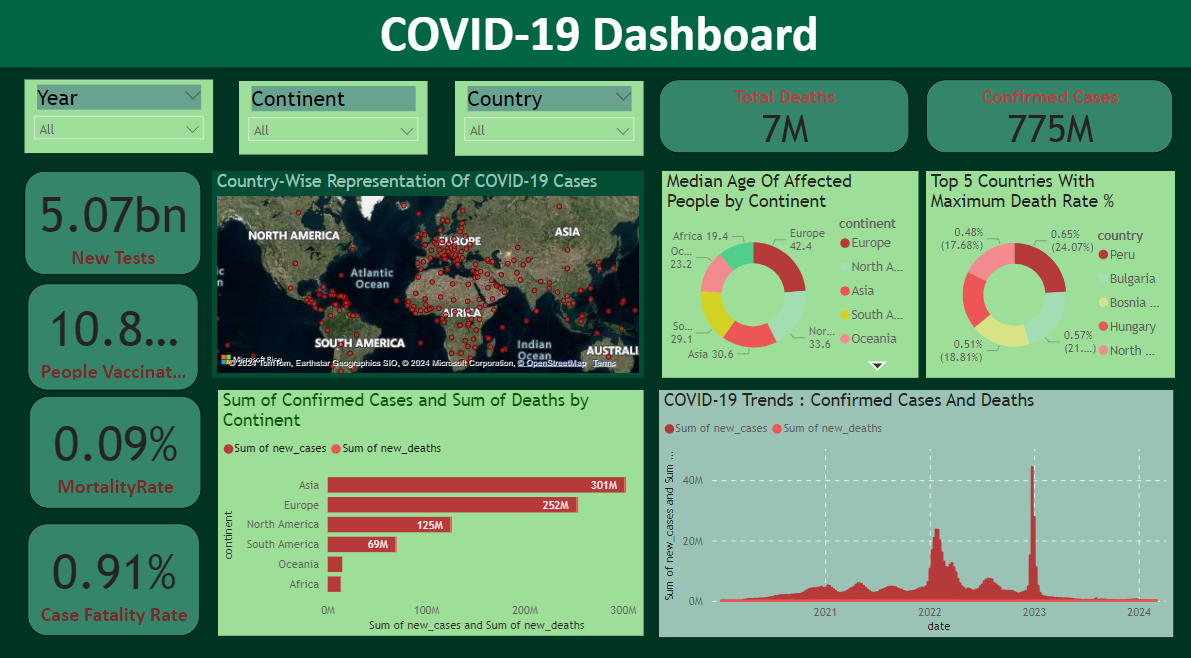

The dashboard page shown, as its layout file describes it:
{"tool":"powerbi","page":{"name":"Page 1","canvas":[1280,720],"ordinal":0},"visuals":[{"type":"textbox","box":[0,0,1279.5,74.7],"z":0},{"type":"card","title":"Confirmed Cases","fields":{"Values":["Sum(Sheet1.new_cases)"]},"box":[985.4,87.4,262.3,77.9],"z":1000},{"type":"map","fields":{"Category":["Sheet1.country"]},"box":[228.9,184.4,457.7,219.3],"z":2000},{"type":"card","fields":{"Values":["Sum(Sheet1.new_tests)"]},"box":[30.2,184.4,187.5,109.7],"z":3000},{"type":"barChart","title":"Sum of Confirmed Cases and Sum of Deaths by Continent","fields":{"Category":["Sheet1.continent"],"Y":["Sum(Sheet1.new_cases)","Sum(Sheet1.new_deaths)"]},"box":[235.2,416.4,451.4,260.7],"z":4000},{"type":"donutChart","title":"Top 5 Countries With Maximum Death Rate %","fields":{"Category":["Sheet1.country"],"Y":["Sheet1.MortalityRate"]},"box":[985.4,184.4,263.8,219.3],"z":6000},{"type":"lineChart","title":"COVID-19 Trends : Confirmed Cases And Deaths","fields":{"Category":["Sheet1.date"],"Y":["Sum(Sheet1.new_cases)","Sum(Sheet1.new_deaths)"]},"box":[702.5,416.4,545.2,262.3],"z":7000},{"type":"card","fields":{"Values":["Sheet1.MortalityRate"]},"box":[35,422.8,182.8,119.2],"z":8000},{"type":"card","title":"Total Deaths","fields":{"Values":["Sum(Sheet1.new_deaths)"]},"box":[702.5,87.4,265.4,77.9],"z":9000},{"type":"card","fields":{"Values":["Sum(Sheet1.new_vaccinations)"]},"box":[34,304.3,181.4,113.4],"z":10000},{"type":"donutChart","title":" Median Age Of Affected People by Continent","fields":{"Y":["Median(Sheet1.median_age)"],"Category":["Sheet1.continent"]},"box":[705.7,184.4,271.8,219.3],"z":11000},{"type":"card","fields":{"Values":["Sheet1.Case FatalityRate"]},"box":[33.4,557.9,182.8,119.2],"z":12000},{"type":"slicer","fields":{"Values":["Sheet1.country"]},"box":[486.4,89,200.3,79.5],"z":13000},{"type":"slicer","fields":{"Values":["Sheet1.continent"]},"box":[257.5,89,200.3,77.9],"z":14000},{"type":"slicer","fields":{"Values":["Sheet1.date.Variation.Date Hierarchy.Year"]},"box":[30.2,87.4,200.3,77.9],"z":14001}]}

Visuals, with their boxes in screenshot pixels (x1, y1, x2, y2), scaled from the page's 1280x720 canvas onto the 1191x658 screenshot:
textbox: rect(0, 0, 1190, 68)
"Confirmed Cases" card: rect(917, 80, 1161, 151)
map - Sheet1.country: rect(213, 169, 639, 369)
card - Sum(Sheet1.new_tests): rect(28, 169, 203, 269)
"Sum of Confirmed Cases and Sum of Deaths by Continent" barChart: rect(219, 381, 639, 619)
"Top 5 Countries With Maximum Death Rate %" donutChart: rect(917, 169, 1162, 369)
"COVID-19 Trends : Confirmed Cases And Deaths" lineChart: rect(654, 381, 1161, 620)
card - Sheet1.MortalityRate: rect(33, 386, 203, 495)
"Total Deaths" card: rect(654, 80, 901, 151)
card - Sum(Sheet1.new_vaccinations): rect(32, 278, 200, 382)
" Median Age Of Affected People by Continent" donutChart: rect(657, 169, 910, 369)
card - Sheet1.Case FatalityRate: rect(31, 510, 201, 619)
slicer - Sheet1.country: rect(453, 81, 639, 154)
slicer - Sheet1.continent: rect(240, 81, 426, 153)
slicer - Sheet1.date.Variation.Date Hierarchy.Year: rect(28, 80, 214, 151)
